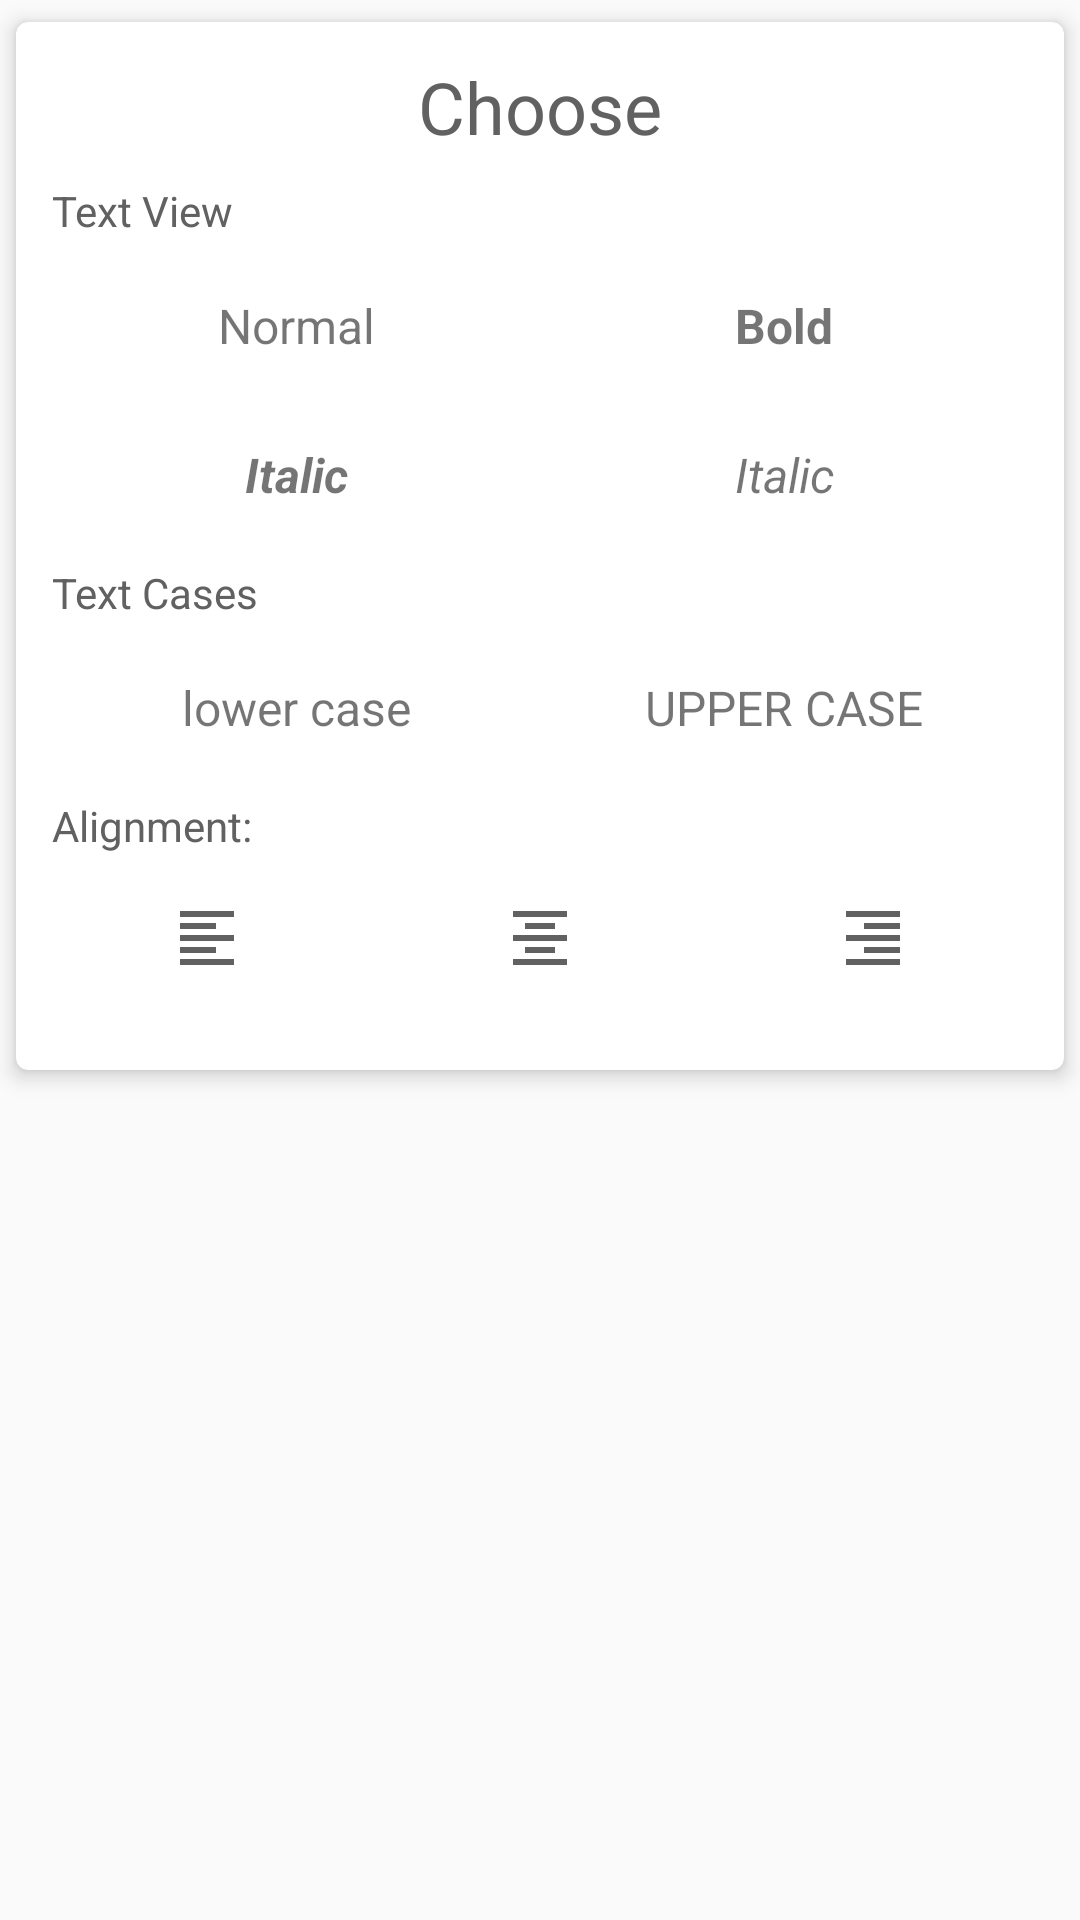

Where icons sit on this 1080 × 1920 app screen, as (x1, y1, x2, y2):
text align end: (846, 911, 900, 965)
text align start: (180, 911, 234, 965)
